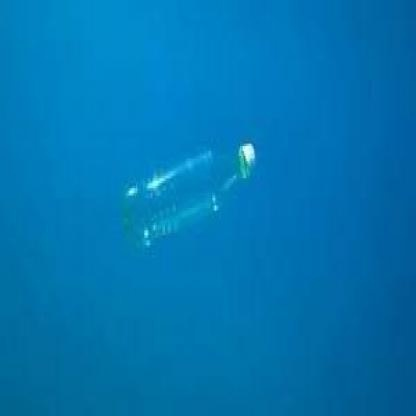pbottle: (118, 121, 258, 260)
